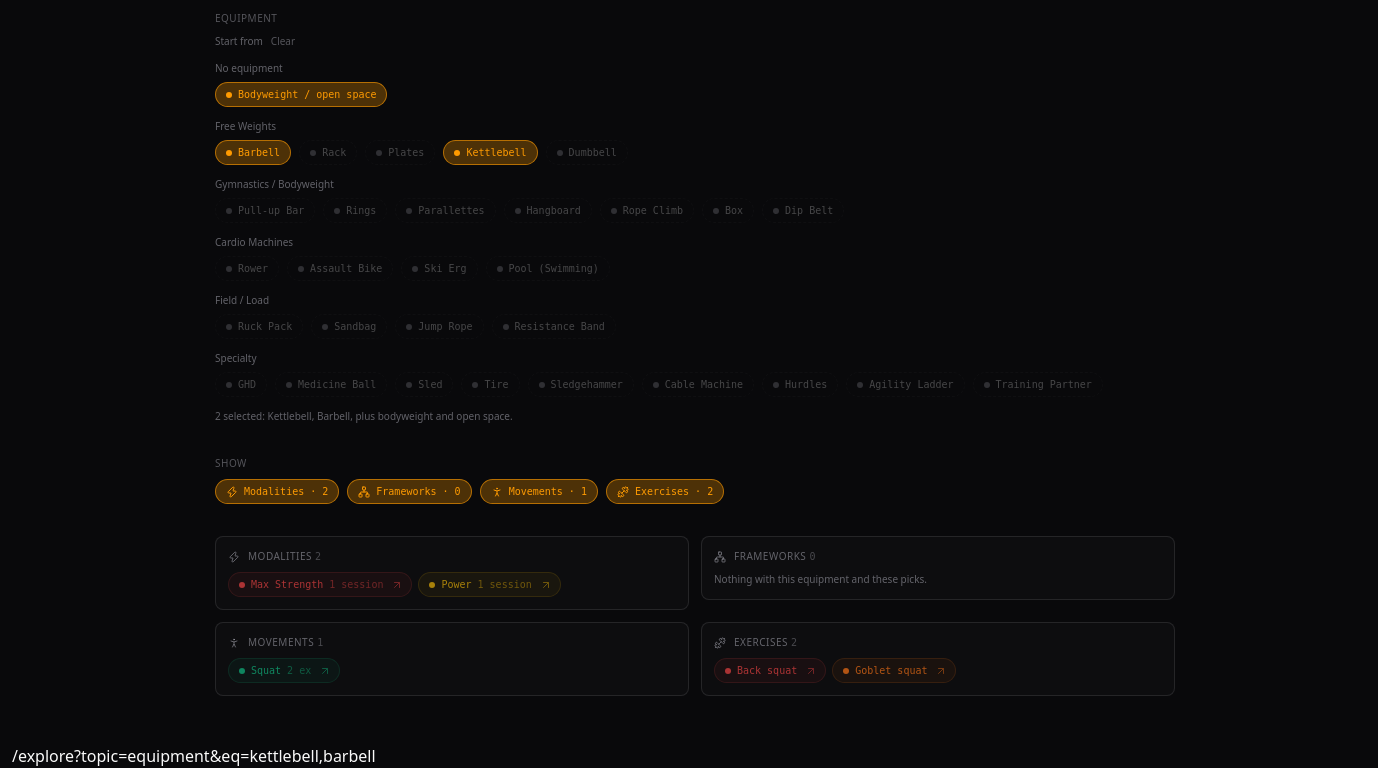
Test: Explore › equipment: lists what it enables, a pick narrows the rest, ↗ opens the detail
(page scrolled)
expect the button "Goblet squat" is shown: met, box [833,659,934,682]
expect the button "Back squat" is shown: met, box [715,659,803,682]
Pick Power: the barbell squat is not in it.
What coordinates should you click on to do the following:
click the button "Power 1 session"
I would click on:
 (479, 584)
Its box is [419,573,538,596].
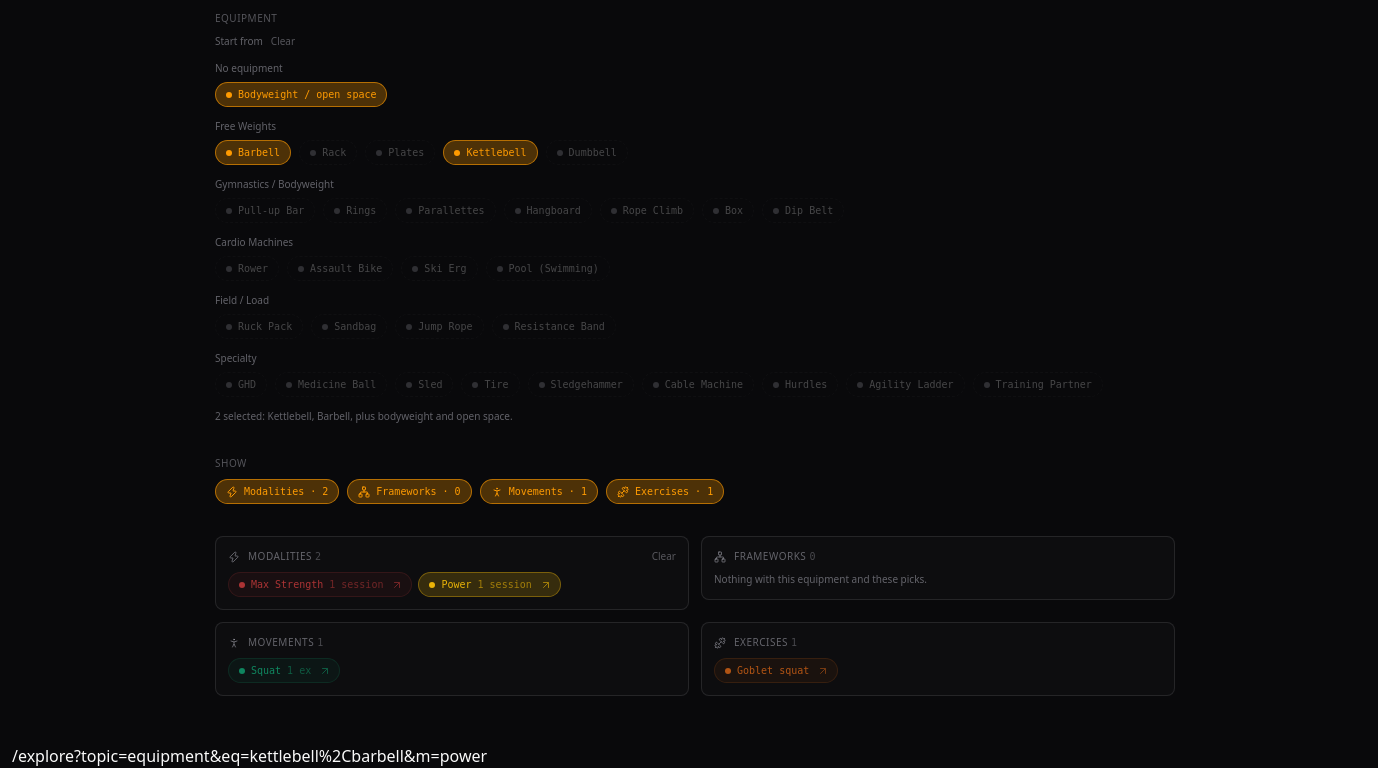
expect the text with test id "where" reads "/explore?topic=equipment&eq=kettlebell%2Cbarbell&m=power": met, box [12,745,487,767]
What coordinates should you click on to do the following:
click the button named "Open Goblet squat"
I would click on:
 (826, 670)
Its box is [815,660,837,680].
(page scrolled)
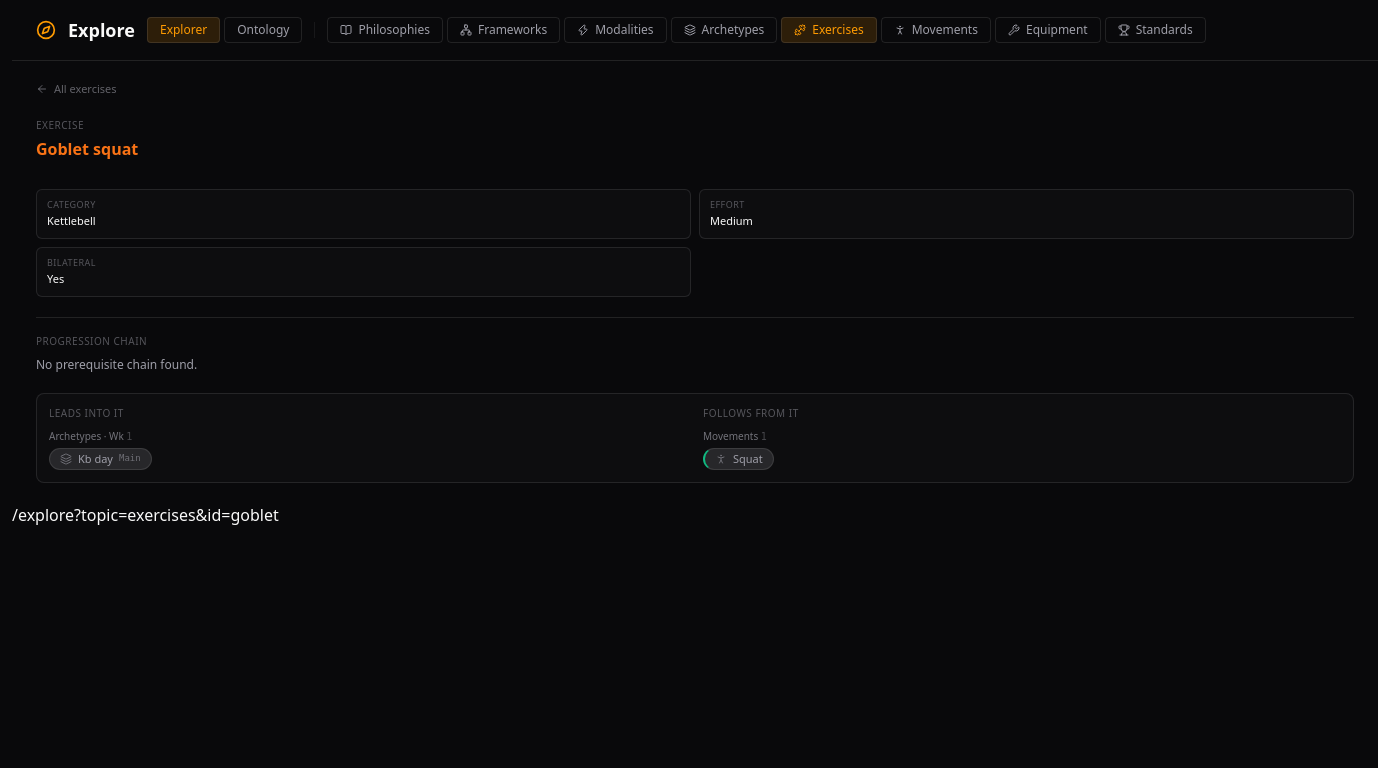
expect the text with test id "where" reads "/explore?topic=exercises&id=goblet": met, box [12,504,279,526]
